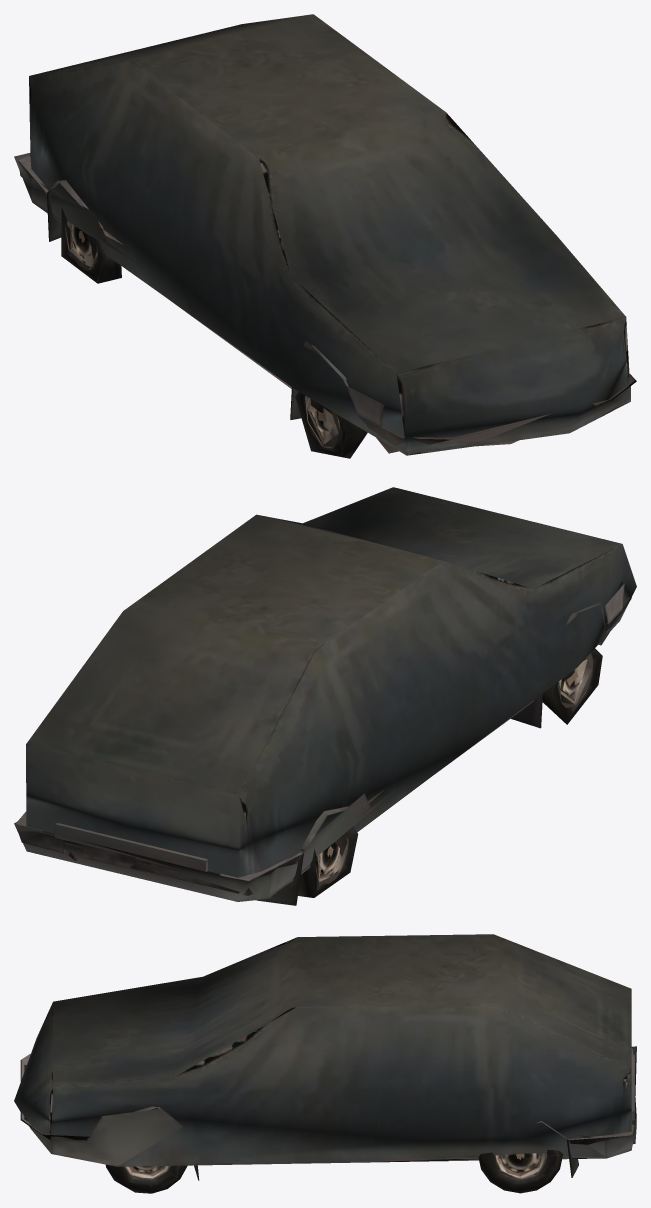
Rendered from voiture_bachee_lod1.glb.
The picture shows the model from 3 angles, top to bottom: view 1: azimuth 30°, elevation 25°; view 2: azimuth 150°, elevation 25°; view 3: azimuth 270°, elevation 25°; orthographic projection. The views are drawn at different scales.
Parts seen in each view (by area): view 1: covered_car_wheel_02; view 2: covered_car_wheel_02; view 3: covered_car_wheel_02, covered_car_wheel_01.
Boxes of the visible parts, left/top/right/bottom form: covered_car_wheel_02: left=14, top=14, right=636, bottom=458; covered_car_wheel_02: left=14, top=487, right=636, bottom=905; covered_car_wheel_02: left=14, top=934, right=636, bottom=1180; covered_car_wheel_01: left=105, top=1150, right=563, bottom=1193.
Size of the model in its own units: 1.78 by 1.35 by 4.3.
1 material, 1 textured.
